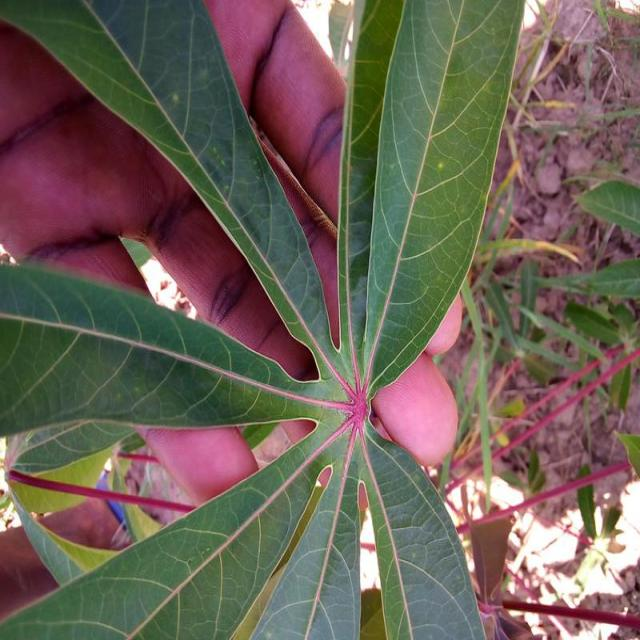cassava leaf: (0, 0, 524, 638), (359, 0, 526, 400)
